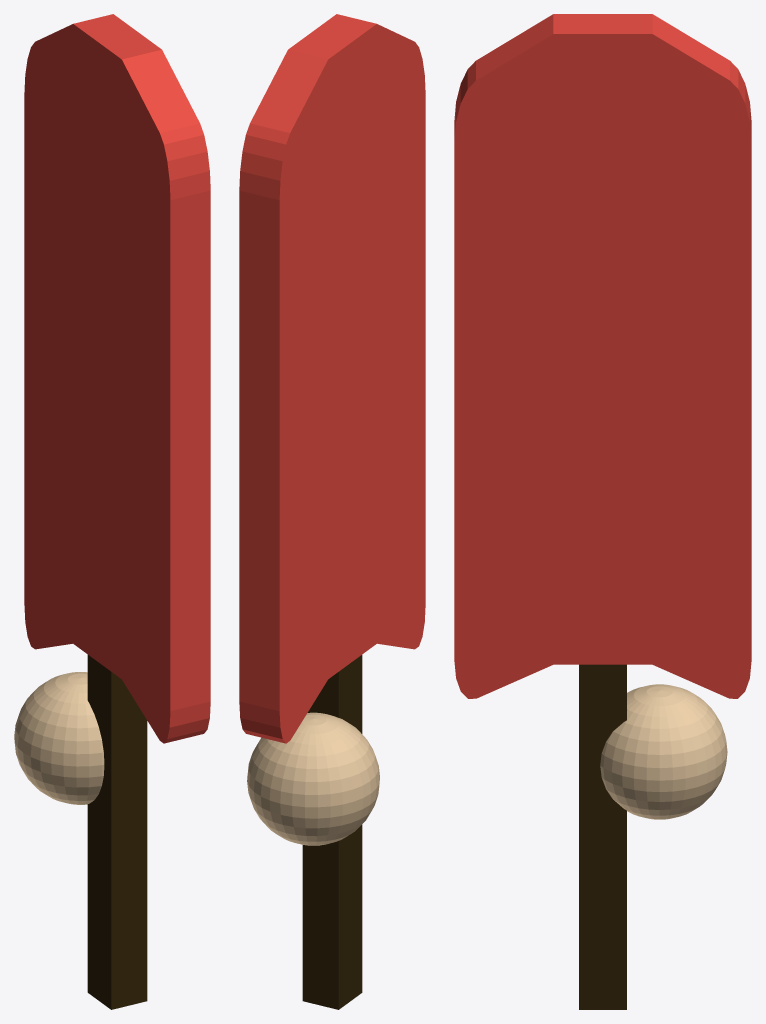
Rendered from Flag.fbx.
3 renders of one model, left to right at view 1: azimuth 30°, elevation 25°; view 2: azimuth 150°, elevation 25°; view 3: azimuth 270°, elevation 25°, orthographic.
Visible parts, largest first — view 1: Cube.002; view 2: Cube.002; view 3: Cube.002.
Boxes of the visible parts, box(x1,y1,x2,y2) form: Cube.002: box(14, 14, 210, 1009); Cube.002: box(239, 14, 425, 1009); Cube.002: box(454, 14, 751, 1009).
Bounding box in the file's own units: 24.94 × 198 × 54.64.
